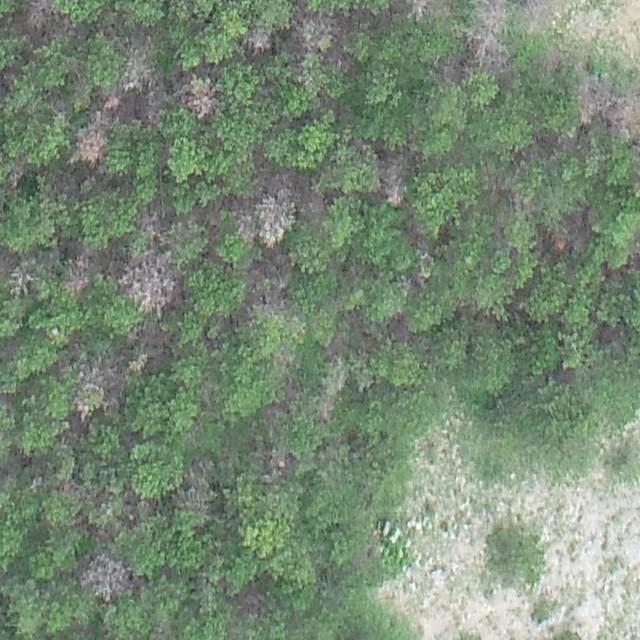unhealthy: (118, 251, 182, 313), (76, 554, 135, 600), (551, 205, 596, 254), (255, 188, 292, 246), (464, 27, 511, 70), (77, 355, 126, 395), (605, 83, 639, 139), (176, 77, 219, 119), (299, 9, 348, 44), (576, 76, 608, 123), (127, 320, 175, 351), (118, 47, 157, 85), (73, 124, 110, 164), (62, 255, 96, 296), (135, 200, 171, 236), (519, 0, 561, 30), (140, 88, 169, 130), (7, 257, 37, 296), (472, 0, 511, 30), (173, 484, 210, 514), (380, 148, 412, 182), (21, 1, 54, 33), (430, 55, 465, 85), (263, 446, 293, 481), (397, 0, 451, 18), (232, 208, 256, 243), (243, 26, 273, 54), (237, 584, 266, 611), (539, 44, 565, 71), (382, 182, 405, 209), (99, 93, 123, 118)
